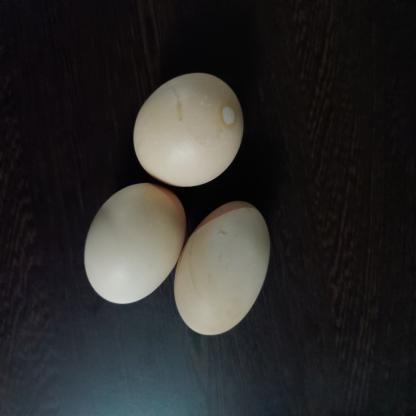egg: (172, 200, 270, 338), (82, 182, 187, 306), (132, 72, 244, 188)
